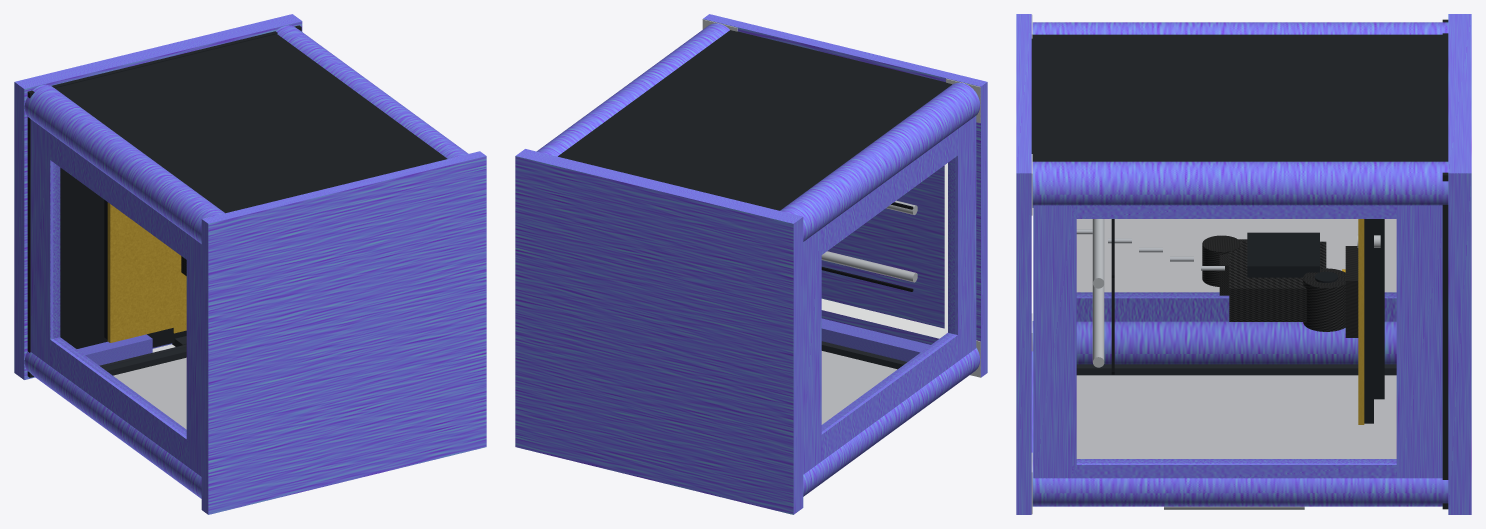
The model's file is deltrol_p2s_optimized.glb.
3 views of the same model, side by side, from view 1: azimuth 30°, elevation 25°; view 2: azimuth 150°, elevation 25°; view 3: azimuth 270°, elevation 25° (orthographic). The views are drawn at different scales.
Parts seen in each view (by area): view 1: top_rim_outer, rear_panel, left_glass_window, bottom_panel, corner_post_-0.17_0.17, build_plate, base_plinth, left_wall_bot, left_wall_front, corner_post_-0.17_-0.17, left_wall_rear, left_wall_top (+4 smaller); view 2: base_plinth, rear_panel, left_glass_window, top_rim_outer, corner_post_-0.17_0.17, left_wall_top, left_wall_front, left_wall_bot, corner_post_-0.17_-0.17, left_wall_rear, corner_post_0.17_0.17, front_top_beam (+4 smaller); view 3: right_glass_window, rear_panel, corner_post_0.17_0.17, right_wall_bot, corner_post_0.17_-0.17, right_wall_top, base_plinth, corner_post_-0.17_-0.17, top_rim_outer, right_wall_front, corner_post_-0.17_0.17, left_wall_front (+14 smaller).
Part boxes in pixels (left/top/right/bottom): top_rim_outer: left=201, top=151, right=486, bottom=514; rear_panel: left=55, top=34, right=447, bottom=213; left_glass_window: left=54, top=166, right=185, bottom=430; bottom_panel: left=27, top=25, right=301, bottom=377; corner_post_-0.17_0.17: left=24, top=84, right=224, bottom=243; build_plate: left=107, top=202, right=186, bottom=342; base_plinth: left=14, top=14, right=302, bottom=379; left_wall_bot: left=30, top=119, right=60, bottom=365; left_wall_front: left=50, top=337, right=188, bottom=466; corner_post_-0.17_-0.17: left=24, top=351, right=201, bottom=498; left_wall_rear: left=50, top=134, right=188, bottom=259; left_wall_top: left=186, top=233, right=201, bottom=476; base_plinth: left=515, top=149, right=803, bottom=514; rear_panel: left=558, top=30, right=951, bottom=210; left_glass_window: left=822, top=162, right=949, bottom=430; top_rim_outer: left=702, top=14, right=987, bottom=377; corner_post_-0.17_0.17: left=780, top=82, right=980, bottom=241; left_wall_top: left=948, top=116, right=976, bottom=361; left_wall_front: left=821, top=333, right=957, bottom=460; left_wall_bot: left=803, top=229, right=821, bottom=474; corner_post_-0.17_-0.17: left=803, top=348, right=980, bottom=496; left_wall_rear: left=821, top=129, right=957, bottom=254; corner_post_0.17_0.17: left=536, top=23, right=729, bottom=156; front_top_beam: left=821, top=318, right=930, bottom=361; right_glass_window: left=1077, top=219, right=1395, bottom=462; rear_panel: left=1031, top=34, right=1442, bottom=161; corner_post_0.17_0.17: left=1032, top=161, right=1448, bottom=207; right_wall_bot: left=1396, top=205, right=1442, bottom=478; corner_post_0.17_-0.17: left=1032, top=460, right=1448, bottom=506; right_wall_top: left=1033, top=205, right=1076, bottom=478; base_plinth: left=1448, top=14, right=1471, bottom=514; corner_post_-0.17_-0.17: left=1032, top=321, right=1396, bottom=364; top_rim_outer: left=1016, top=14, right=1031, bottom=514; right_wall_front: left=1072, top=459, right=1396, bottom=478; corner_post_-0.17_0.17: left=1032, top=22, right=1448, bottom=34; left_wall_front: left=1076, top=292, right=1396, bottom=321.
Size of the model in its own units: 0.389 by 0.4005 by 0.47.
Materials: 12 (12 with a texture image).
